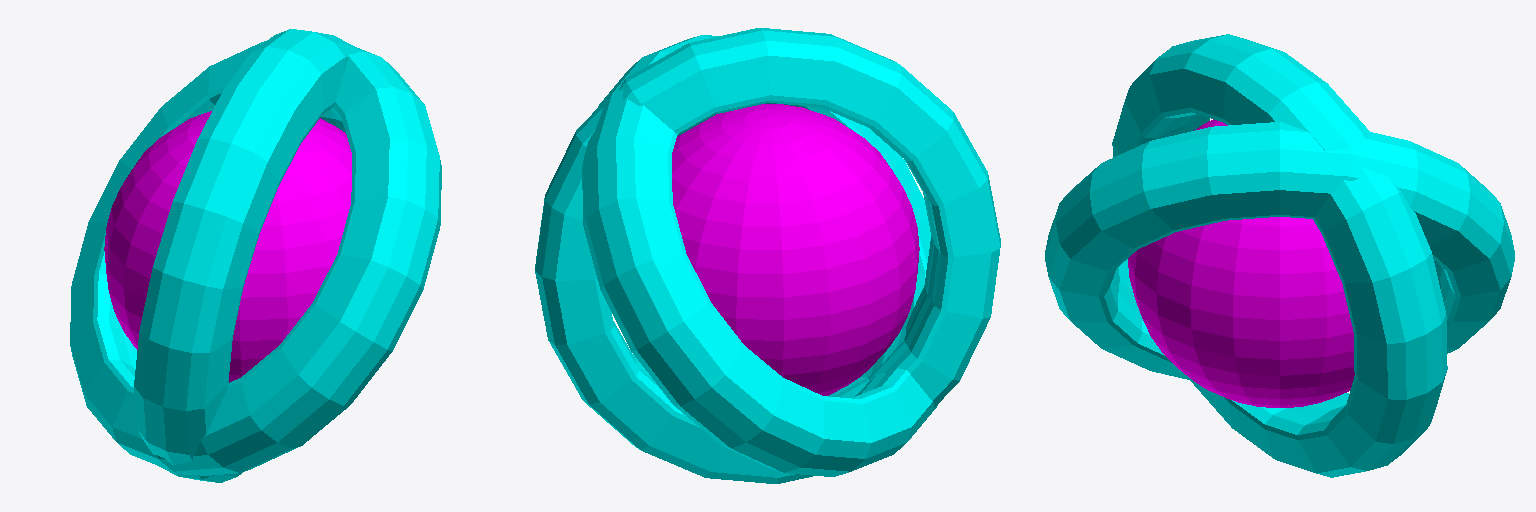
File: light.obj
The picture shows the model from 3 angles: view 1: azimuth 30°, elevation 25°; view 2: azimuth 150°, elevation 25°; view 3: azimuth 270°, elevation 25°; orthographic projection.
Parts seen in each view (by area): view 1: light2; view 2: light2; view 3: light2.
Part boxes in pixels (bbox=[...]): light2: bbox=[70, 29, 441, 482]; light2: bbox=[535, 28, 1000, 483]; light2: bbox=[1045, 34, 1514, 477].
Size of the model in its own units: 3.13 by 3.71 by 3.75.